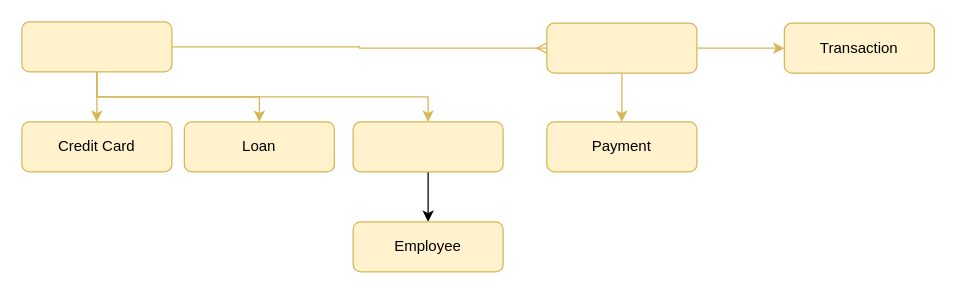
This 956x294 diagram has some shape labels left out. Here are the shapes that lost their labels. From the top down, the centre of each, then its label:
At pixel 96 46: "Customer".
At pixel 621 47: "Account".
At pixel 427 146: "Branch".
